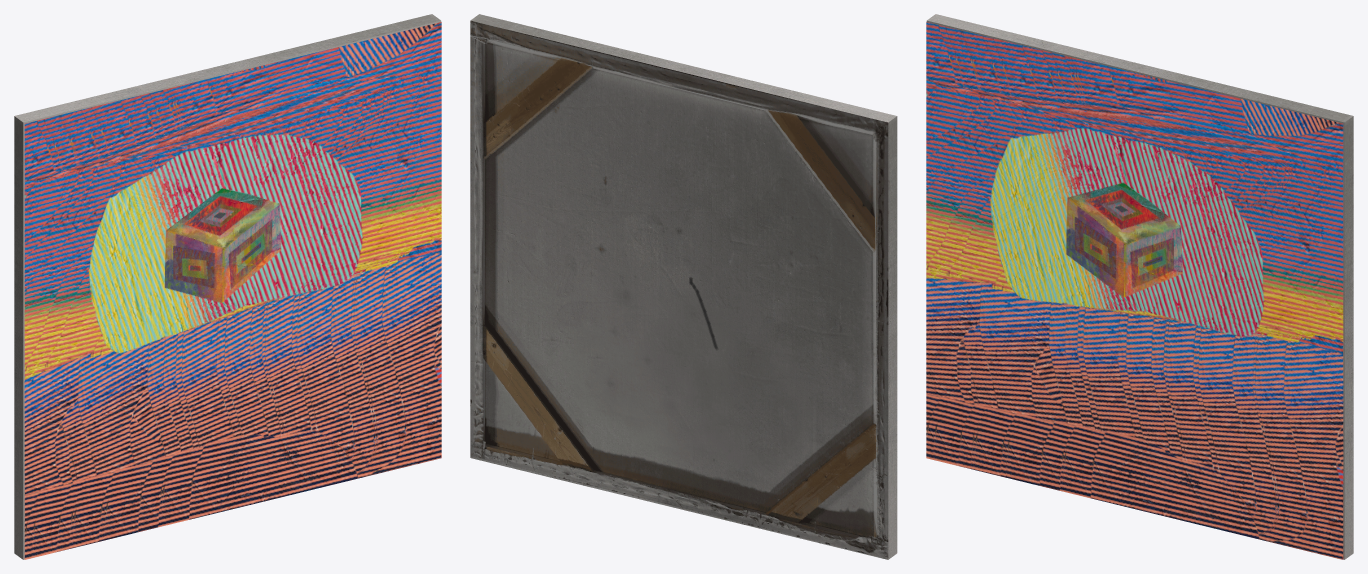
3 views of the same model, side by side, from view 1: azimuth 30°, elevation 25°; view 2: azimuth 150°, elevation 25°; view 3: azimuth 330°, elevation 25° (orthographic).
Parts seen in each view (by area): view 1: Canvas, stretcher; view 2: stretcher; view 3: Canvas, stretcher.
Boxes of the visible parts, x1,y1,x2,y2 form: Canvas: (24,22,441,559); stretcher: (14,14,441,559); stretcher: (470,14,897,559); Canvas: (926,22,1343,559); stretcher: (926,14,1353,559).
Bounding box in the file's own units: 3.04 × 3.04 × 0.155.
4 materials, 4 textured.
